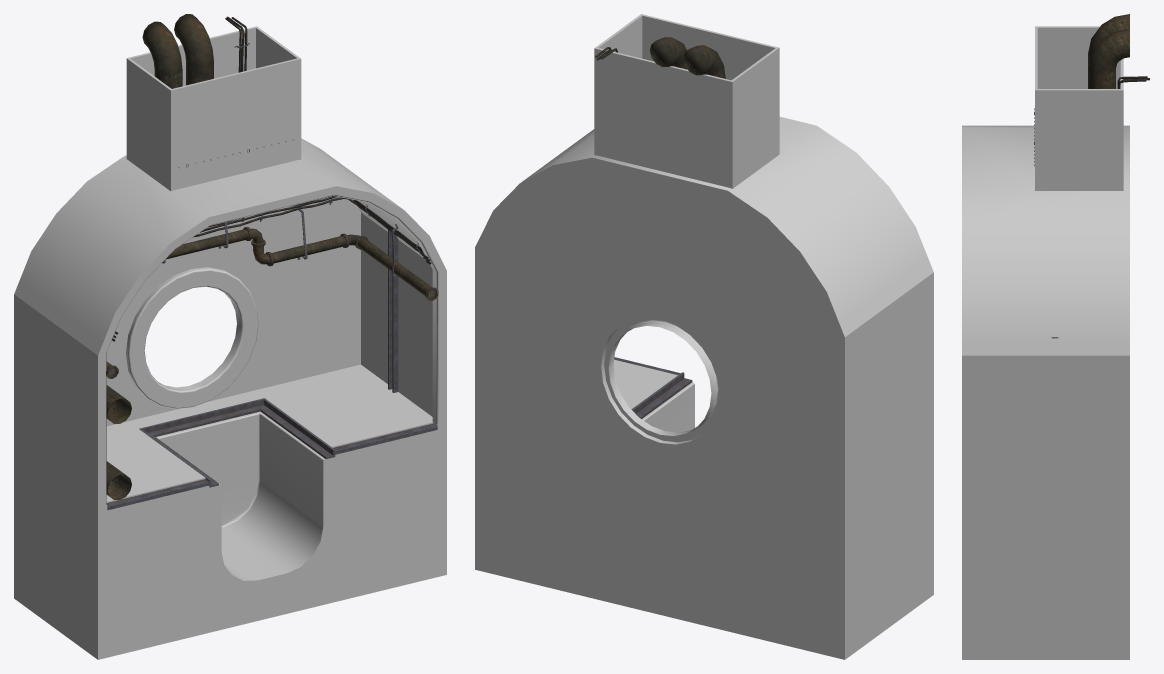
The model's file is SM_Sewer_Tunnel_H.fbx.
3 views of the same model, side by side, from view 1: azimuth 30°, elevation 25°; view 2: azimuth 150°, elevation 25°; view 3: azimuth 270°, elevation 25° (orthographic). The views are drawn at different scales.
Visible parts, largest first — view 1: SMD_Sewer_Base_G_00, Ceiling, SMD_Sewer_Wall_Gate_H, polySurface406, polySurface408, SMD_Sewer_Wall_Gate_Halo, Pipes_Big, SMD_Sewer_Halo_10, Pipes_Small, Rubber, Bulks_Wall, polySurface405 (+4 smaller); view 2: Ceiling, SMD_Sewer_Base_G_00, SMD_Sewer_Wall_Gate_H, polySurface406, SMD_Sewer_Wall_Gate_Halo, Pipes_Big, polySurface408, polySurface403; view 3: Ceiling, SMD_Sewer_Base_G_00, polySurface408, Pipes_Big.
Part boxes in pixels (x1,y1,x2,y2): SMD_Sewer_Base_G_00: [14, 364, 446, 659]; Ceiling: [14, 26, 446, 355]; SMD_Sewer_Wall_Gate_H: [106, 212, 360, 426]; polySurface406: [14, 294, 102, 507]; polySurface408: [361, 212, 446, 423]; SMD_Sewer_Wall_Gate_Halo: [126, 267, 258, 408]; Pipes_Big: [106, 14, 213, 499]; SMD_Sewer_Halo_10: [102, 190, 442, 506]; Pipes_Small: [106, 228, 436, 377]; Rubber: [112, 16, 431, 341]; Bulks_Wall: [388, 230, 398, 392]; polySurface405: [139, 398, 264, 436]; Ceiling: [475, 14, 933, 337]; SMD_Sewer_Base_G_00: [475, 359, 933, 659]; SMD_Sewer_Wall_Gate_H: [480, 248, 839, 497]; polySurface406: [839, 272, 933, 498]; SMD_Sewer_Wall_Gate_Halo: [604, 317, 719, 442]; Pipes_Big: [649, 37, 725, 78]; polySurface408: [475, 247, 480, 409]; polySurface403: [631, 372, 692, 418]; Ceiling: [962, 26, 1129, 355]; SMD_Sewer_Base_G_00: [962, 507, 1129, 659]; polySurface408: [962, 355, 1129, 507]; Pipes_Big: [1088, 14, 1129, 88].
Size of the model in its own units: 720 by 1070 by 336.
